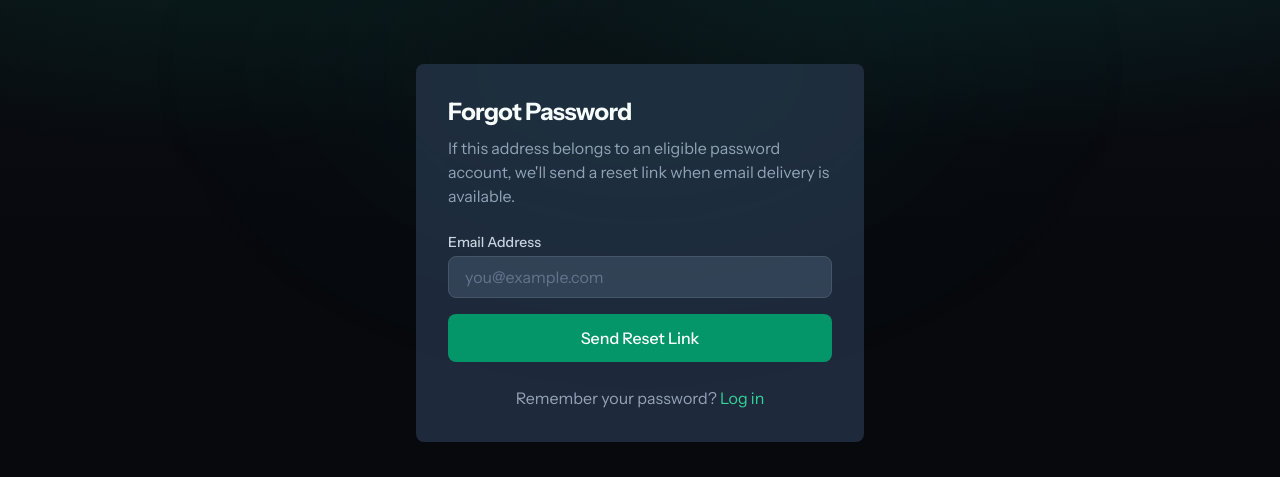
Scenario: ForgotPasswordPage › keeps the confirmation account-neutral and explains why no email may arrive
Type "unknown@example.com" into the field labelled "Email Address".
click(640, 277); type("unknown@example.com")  # box [448,256,832,298]
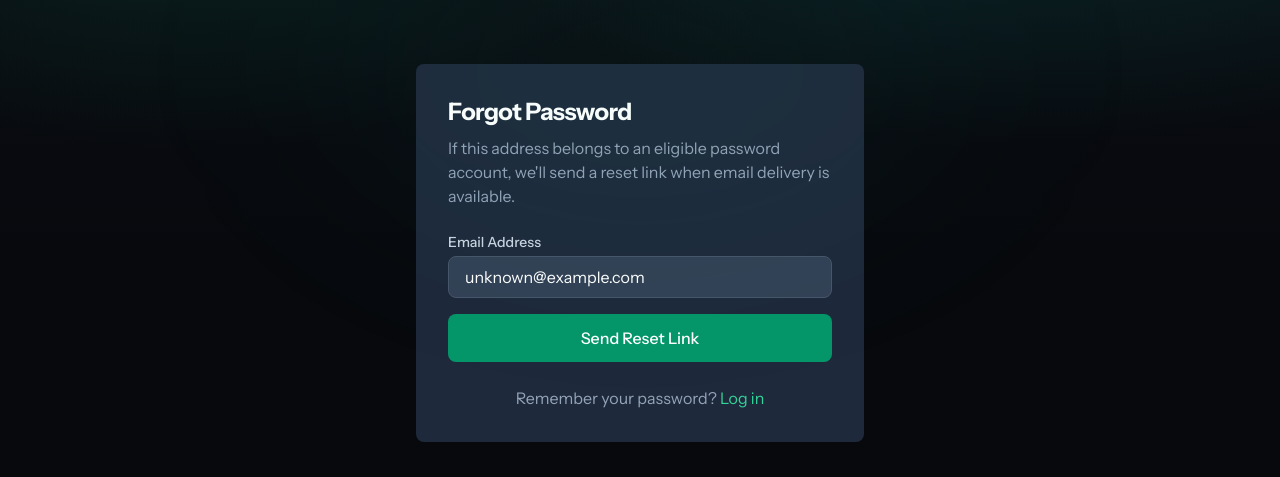
Click the button "Send Reset Link".
click(640, 338)  # box [448,314,832,362]
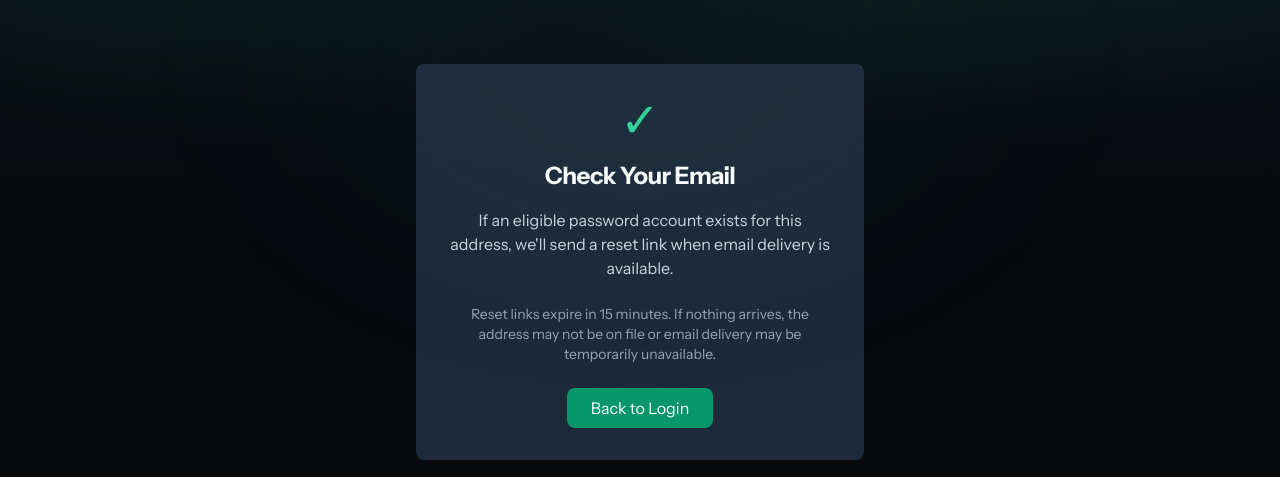
Expected: the heading "Check Your Email" is shown, [545,161,735,190]
Expected: the text "If an eligible password account exists for this address" is shown, [450,210,830,278]
Expected: the text "the address may not be on file or email delivery may be temporarily unavailable" is shown, [471,305,809,363]
